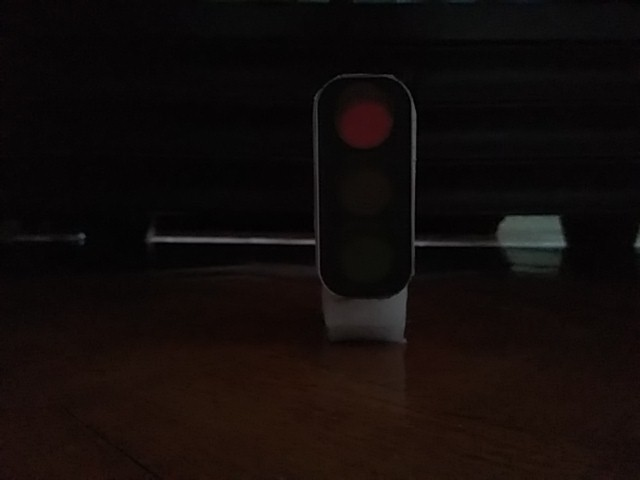Red Traffic Light: (315, 74, 415, 301)
